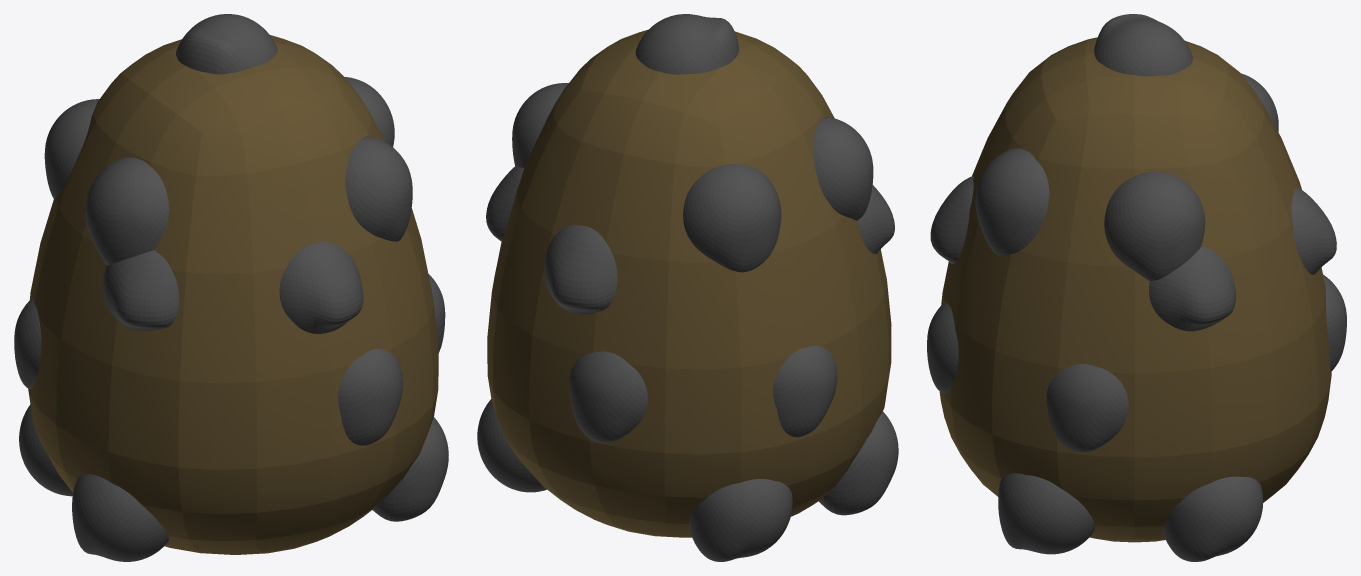
Rendered from CamilaEggModel.fbx.
The picture shows the model from 3 angles, left to right: view 1: azimuth 30°, elevation 25°; view 2: azimuth 150°, elevation 25°; view 3: azimuth 270°, elevation 25°; orthographic projection. The views are drawn at different scales.
Parts seen in each view (by area): view 1: Egg_Whole, Sphere; view 2: Egg_Whole, Sphere; view 3: Egg_Whole, Sphere.
Part boxes in pixels (box(x1,y1,x2,y2)): Egg_Whole: box(28, 35, 438, 554); Sphere: box(14, 14, 448, 561); Egg_Whole: box(487, 29, 891, 537); Sphere: box(477, 14, 898, 561); Egg_Whole: box(939, 37, 1331, 542); Sphere: box(927, 14, 1346, 561).
Size of the model in its own units: 36.34 by 48.17 by 37.3.
